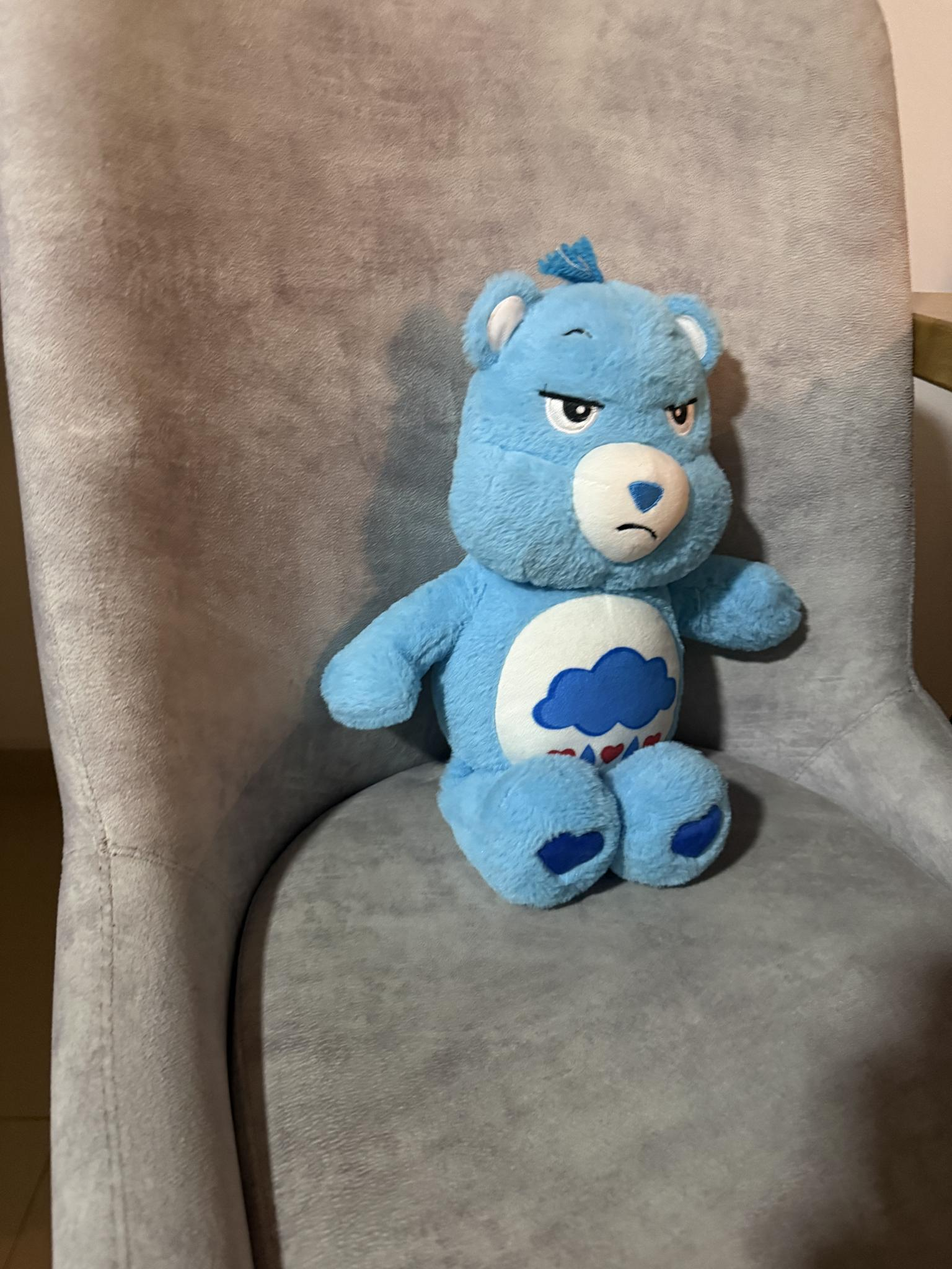peluche_Juan Jose: (318, 253, 816, 918)
